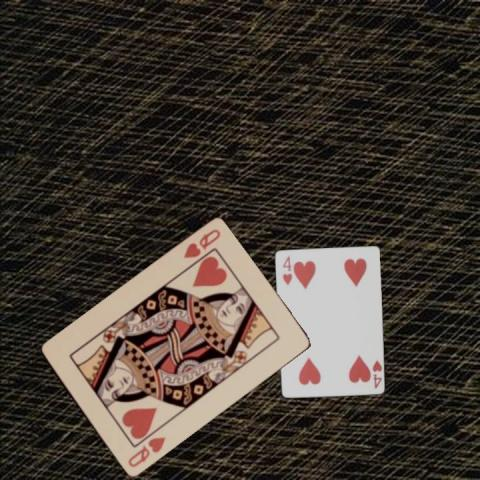4h: (369, 357, 383, 390), (279, 253, 292, 286)
Qh: (125, 434, 167, 469), (180, 226, 222, 261)
